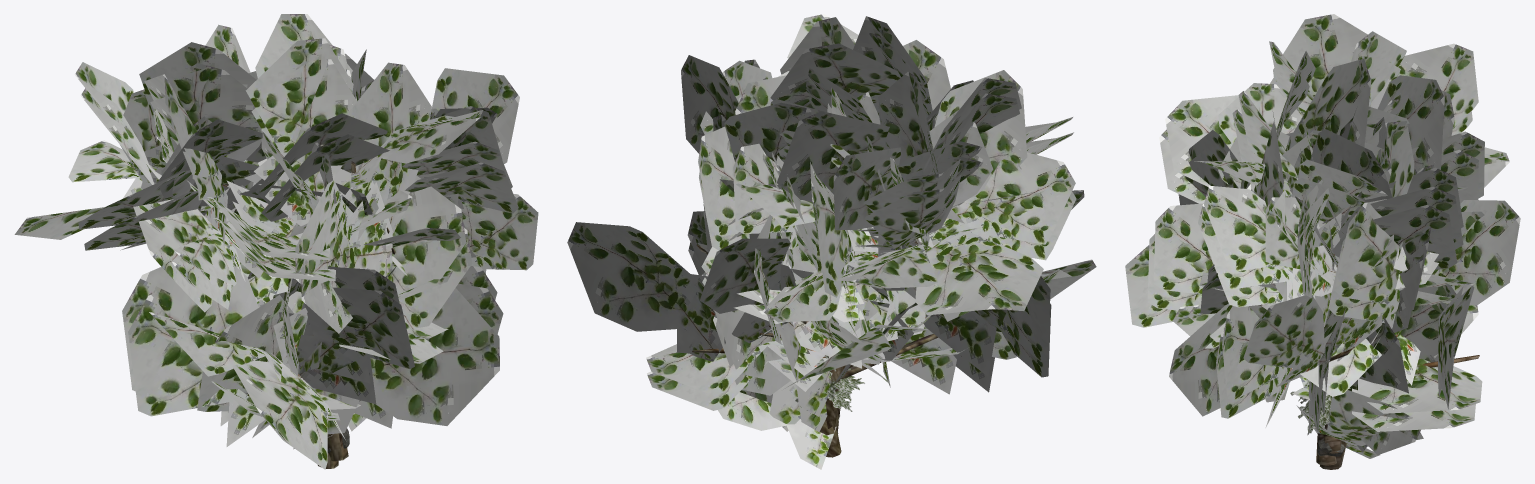
Rendered from foreground-prototypes.glb.
3 views of the same model, side by side, from view 1: azimuth 30°, elevation 25°; view 2: azimuth 150°, elevation 25°; view 3: azimuth 270°, elevation 25° (orthographic). The views are drawn at different scales.
Parts seen in each view (by area): view 1: Circle.005, Circle.008, Circle.009; view 2: Circle.005, Circle.008, Circle.009, Circle.006; view 3: Circle.005, Circle.008, Circle.009, Circle.006.
Boxes of the visible parts, x1,y1,x2,y2 form: Circle.005: (14,24,519,469); Circle.008: (74,38,512,425); Circle.009: (157,14,538,468); Circle.005: (647,17,1096,431); Circle.008: (646,16,1075,430); Circle.009: (567,14,1027,469); Circle.006: (797,355,864,410); Circle.005: (1125,56,1520,465); Circle.008: (1153,14,1484,414); Circle.009: (1188,41,1479,469); Circle.006: (1290,381,1331,431).
Bounding box in the file's own units: 43.23 × 40 × 36.16.
7 materials, 7 textured.
